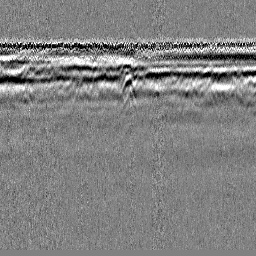cavity: (118, 72, 137, 100)
